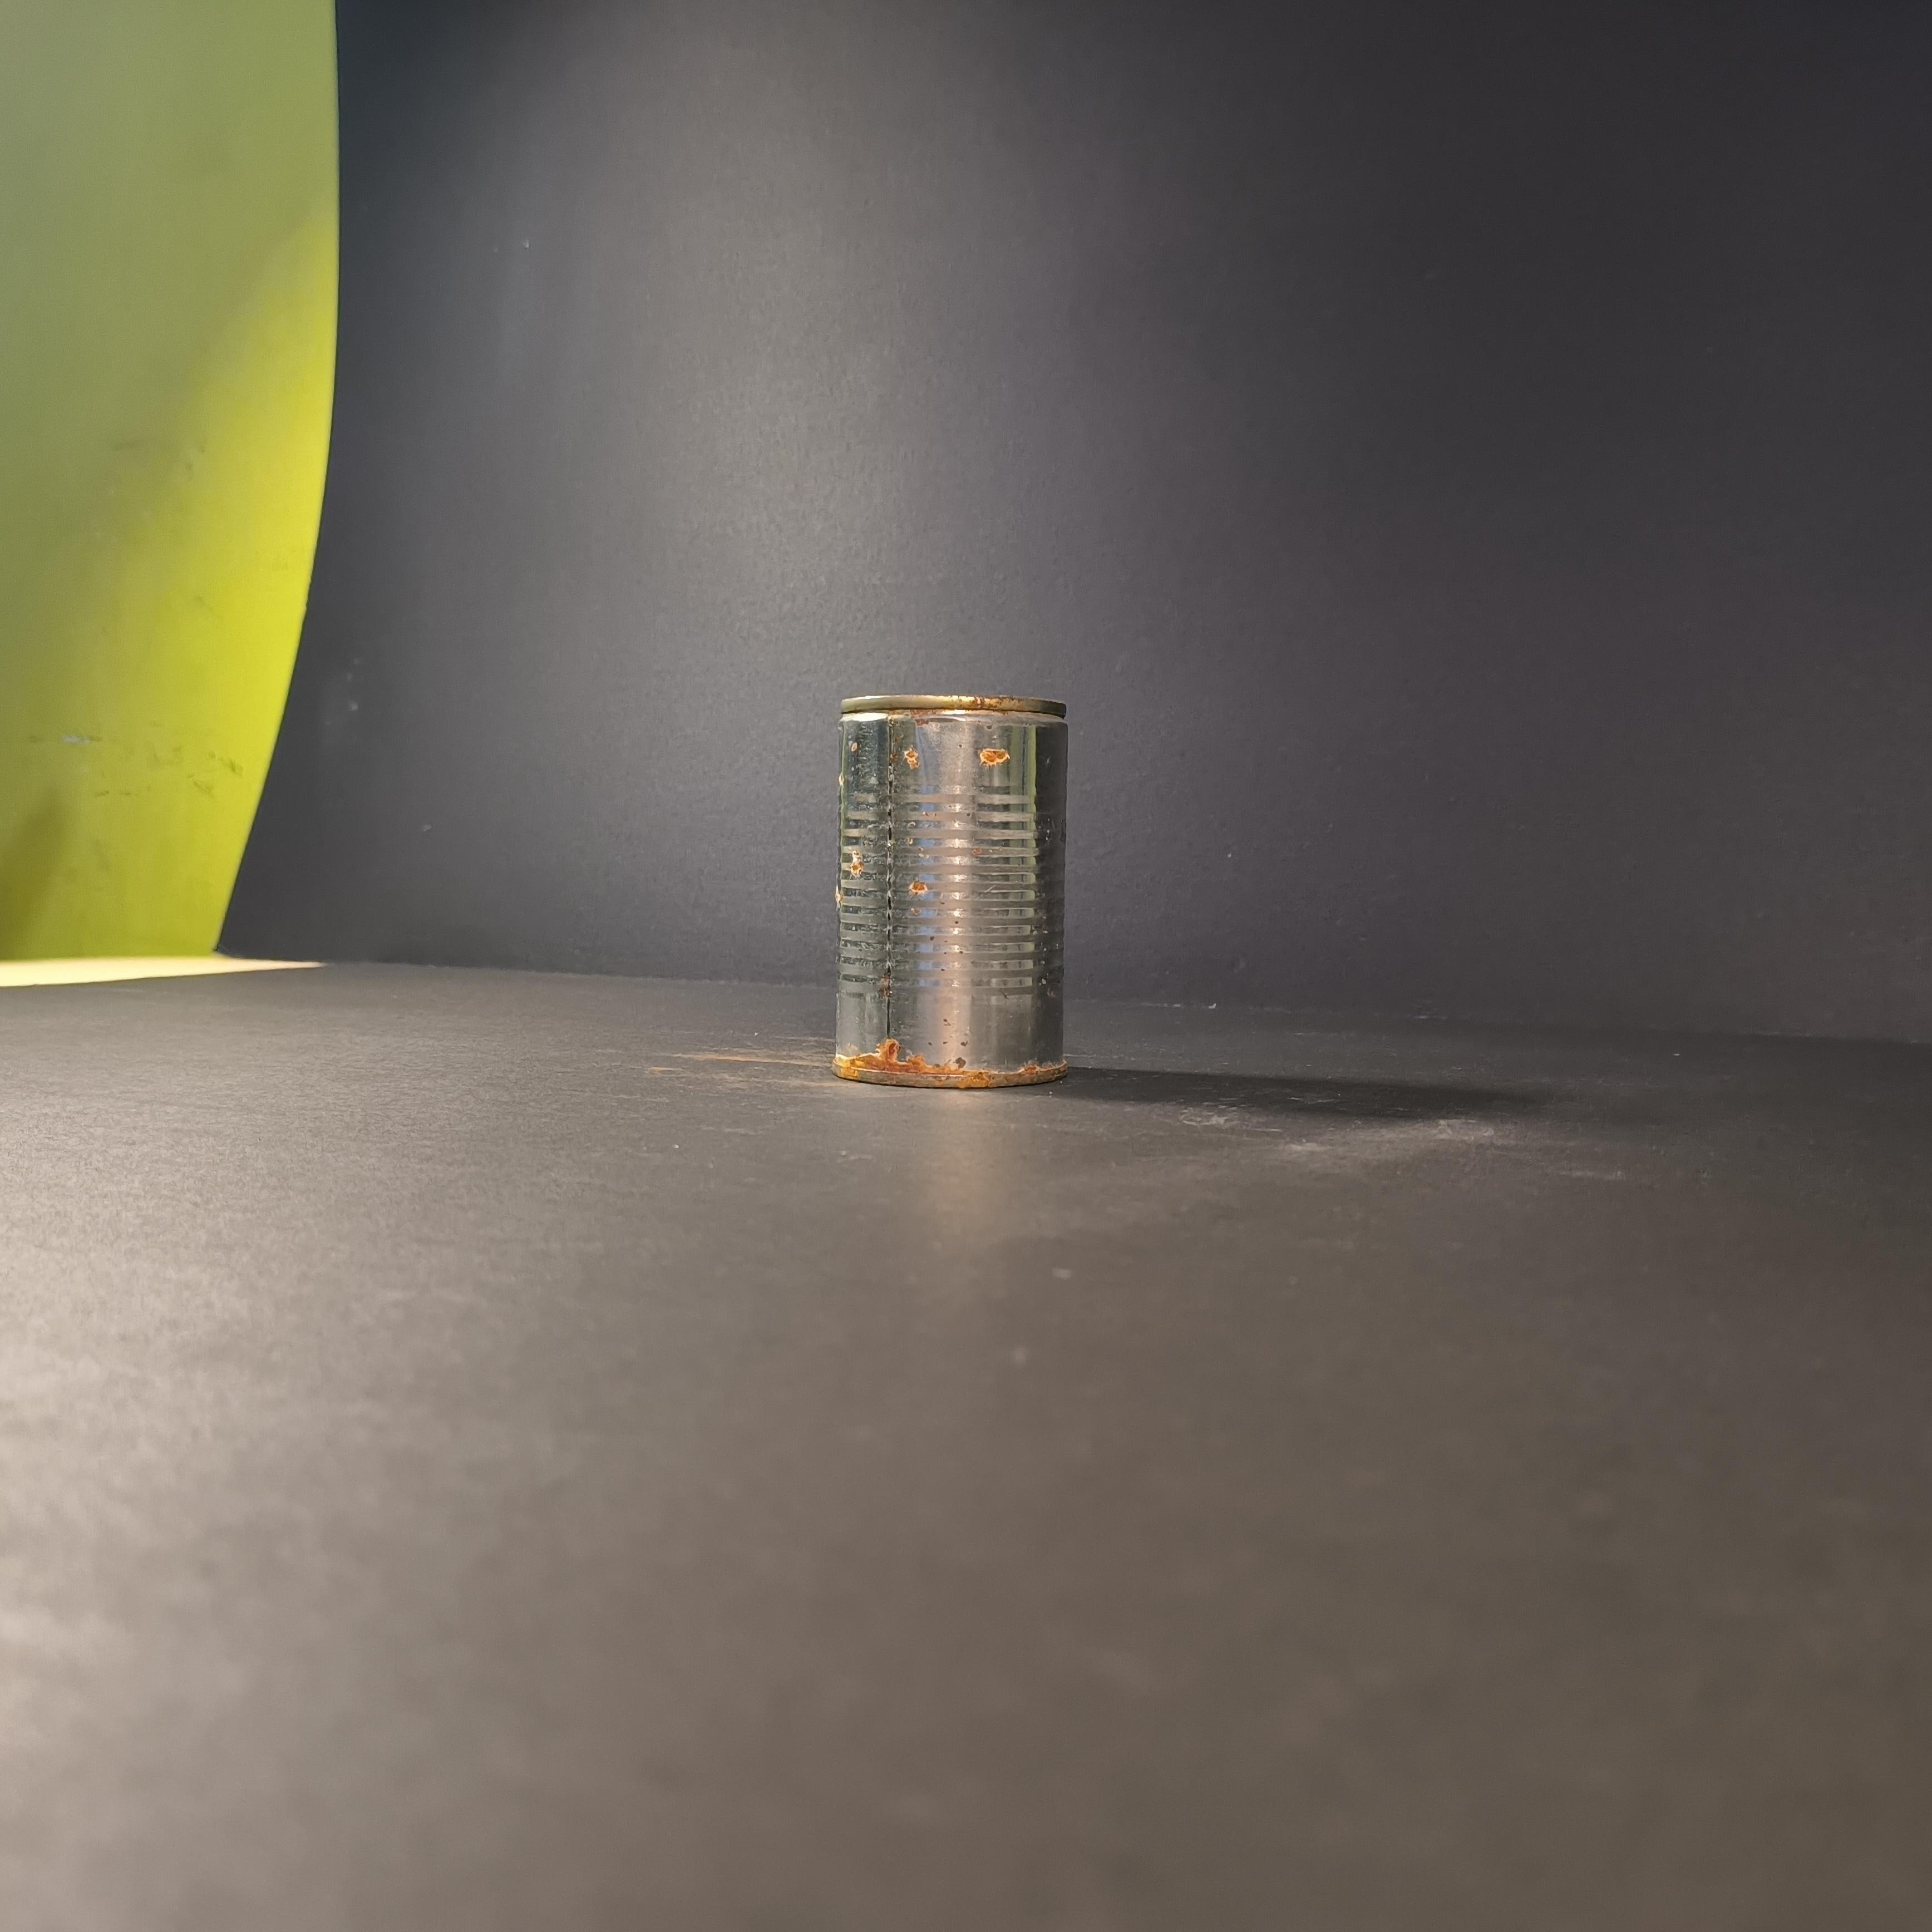Rusted: (803, 660, 1093, 1093)
